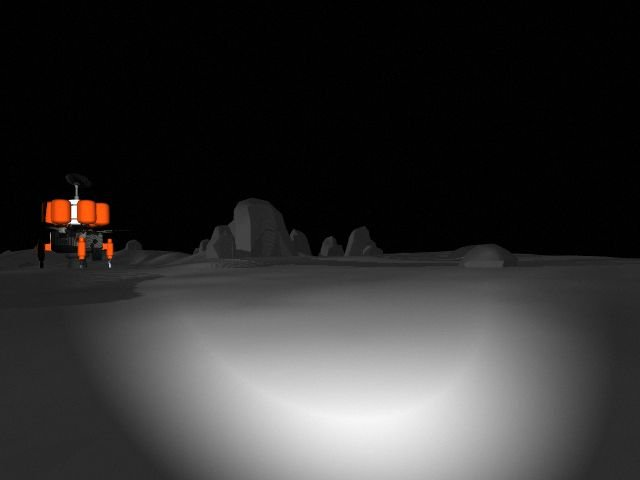homebase: (18, 169, 126, 270)
